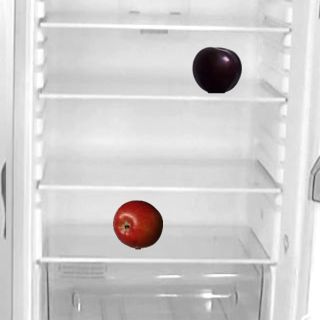Apple Braeburn: (112, 199, 162, 249)
Cherry Wax Black: (191, 44, 241, 94)
